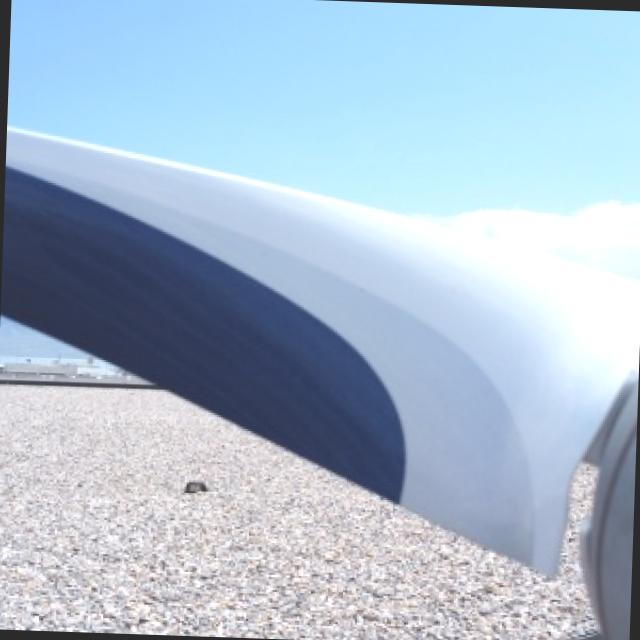healthy: (6, 123, 640, 640)
